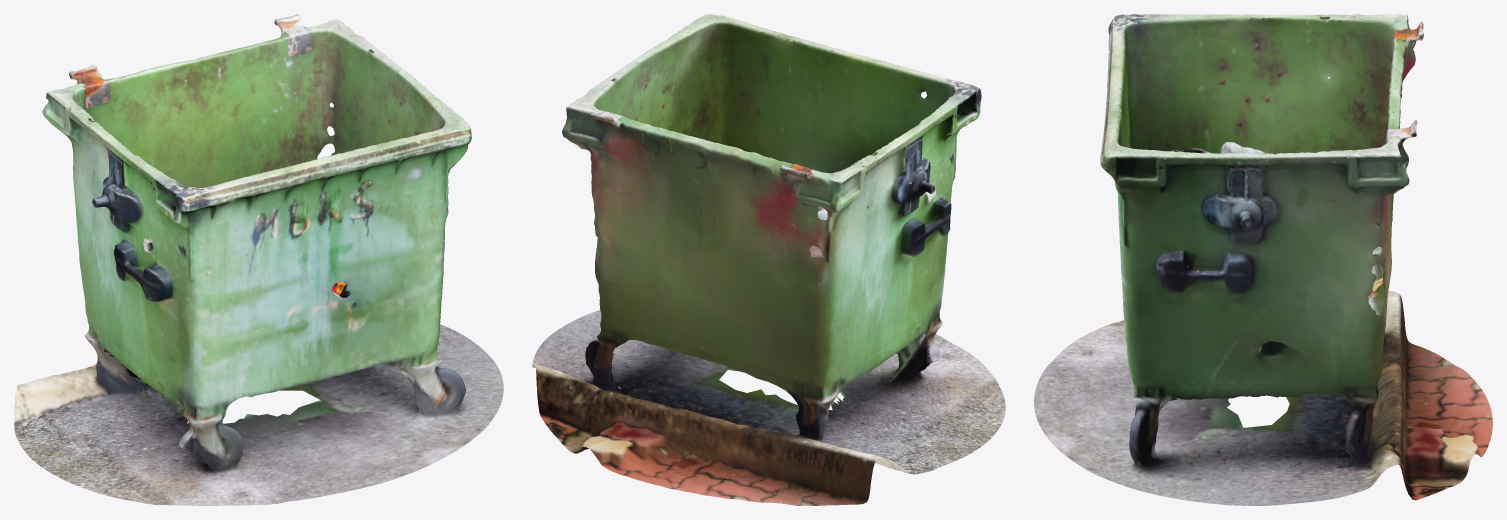
File: wheeled_trashrubbish_bin_scaniverse.glb
3 renders of one model, left to right at view 1: azimuth 30°, elevation 25°; view 2: azimuth 150°, elevation 25°; view 3: azimuth 270°, elevation 25°, orthographic. The views are drawn at different scales.
Parts seen in each view (by area): view 1: mesh_main_0 (×2); view 2: mesh_main_0 (×2); view 3: mesh_main_0 (×2).
Part boxes in pixels (<box>): mesh_main_0 (×2): <box>14,14,503,505</box>; mesh_main_0 (×2): <box>532,14,1005,505</box>; mesh_main_0 (×2): <box>1034,14,1492,505</box>.
Bounding box in the file's own units: 1.75 × 1.3 × 1.51.
1 material, 1 textured.
